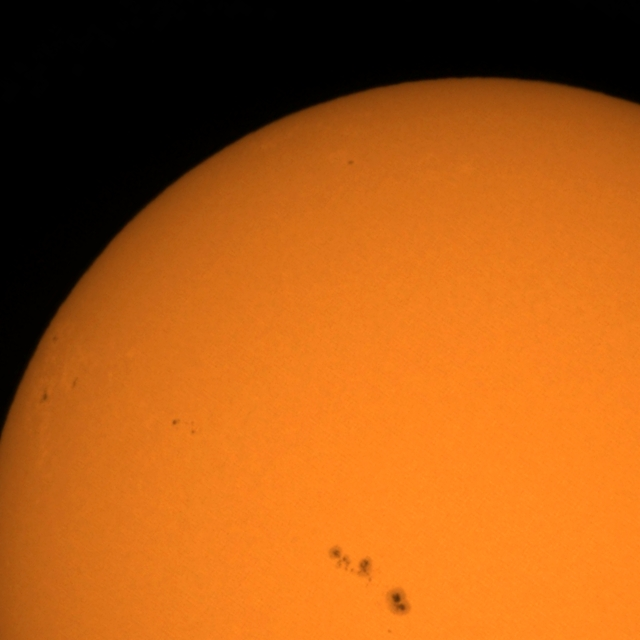sunspot: (327, 544, 376, 582), (386, 588, 412, 616), (171, 417, 198, 436), (38, 389, 50, 406), (70, 376, 79, 390), (51, 334, 60, 344), (346, 159, 355, 167), (386, 628, 393, 634)
